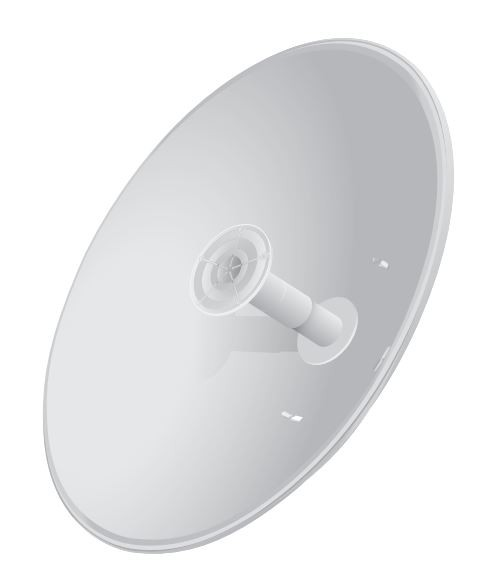ba: (17, 8, 458, 571)
